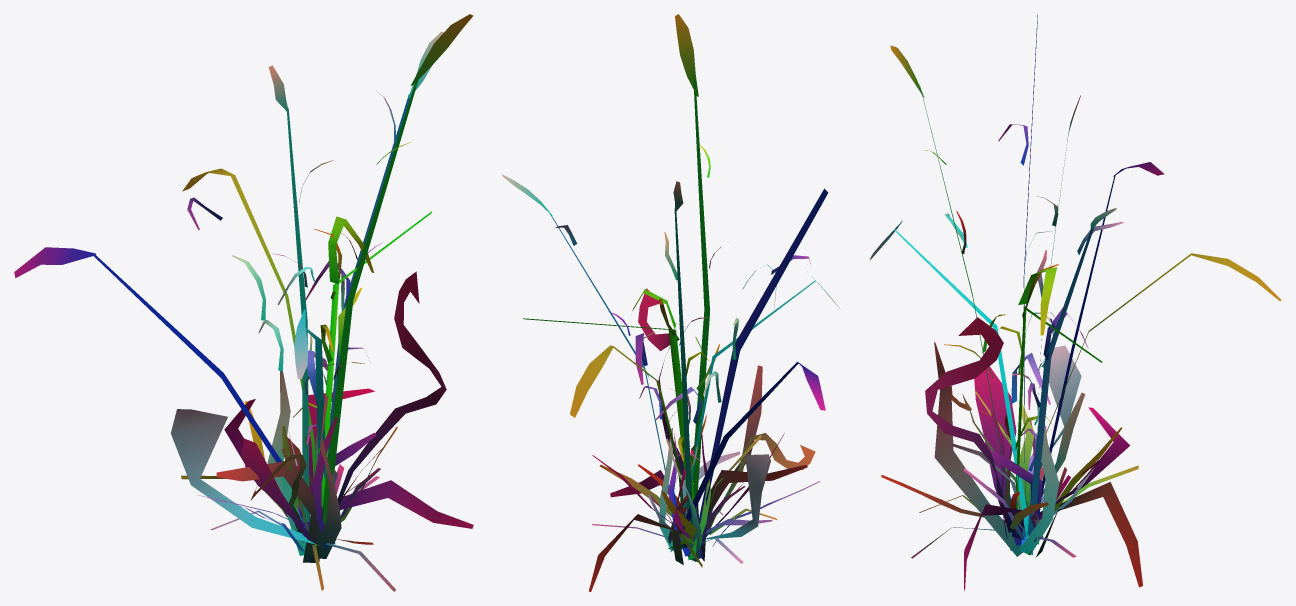
Rendered from Wheat_Grass_tdcrdbur_Low_tdcrdbur_VarB_LOD1.fbx.
3 views of the same model, side by side, from view 1: azimuth 30°, elevation 25°; view 2: azimuth 150°, elevation 25°; view 3: azimuth 270°, elevation 25° (orthographic). The views are drawn at different scales.
Parts seen in each view (by area): view 1: _dddd_VarB_LOD2; view 2: _dddd_VarB_LOD2; view 3: _dddd_VarB_LOD2.
Part boxes in pixels (bbox=[...]): _dddd_VarB_LOD2: bbox=[14, 14, 473, 591]; _dddd_VarB_LOD2: bbox=[502, 14, 840, 591]; _dddd_VarB_LOD2: bbox=[869, 15, 1281, 591].
Bounding box in the file's own units: 85.81 × 118 × 79.23.
